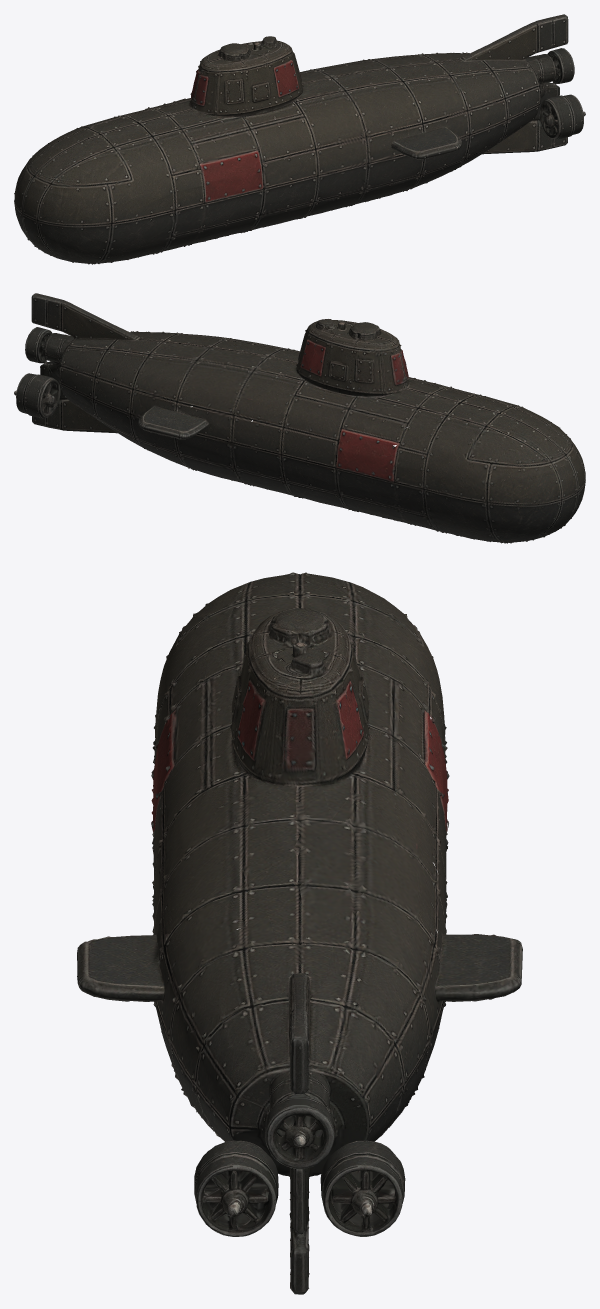
The model's file is attack-submarine.glb.
The picture shows the model from 3 angles, top to bottom: view 1: azimuth 30°, elevation 25°; view 2: azimuth 150°, elevation 25°; view 3: azimuth 270°, elevation 25°; orthographic projection. The views are drawn at different scales.
Visible parts, largest first — view 1: Hull; view 2: Hull; view 3: Hull.
Boxes of the visible parts, x1,y1,x2,y2 form: Hull: [14, 14, 585, 264]; Hull: [14, 293, 585, 543]; Hull: [77, 572, 522, 1294].
Size of the model in its own units: 2 by 0.618 by 0.7014.
1 material, 1 textured.
